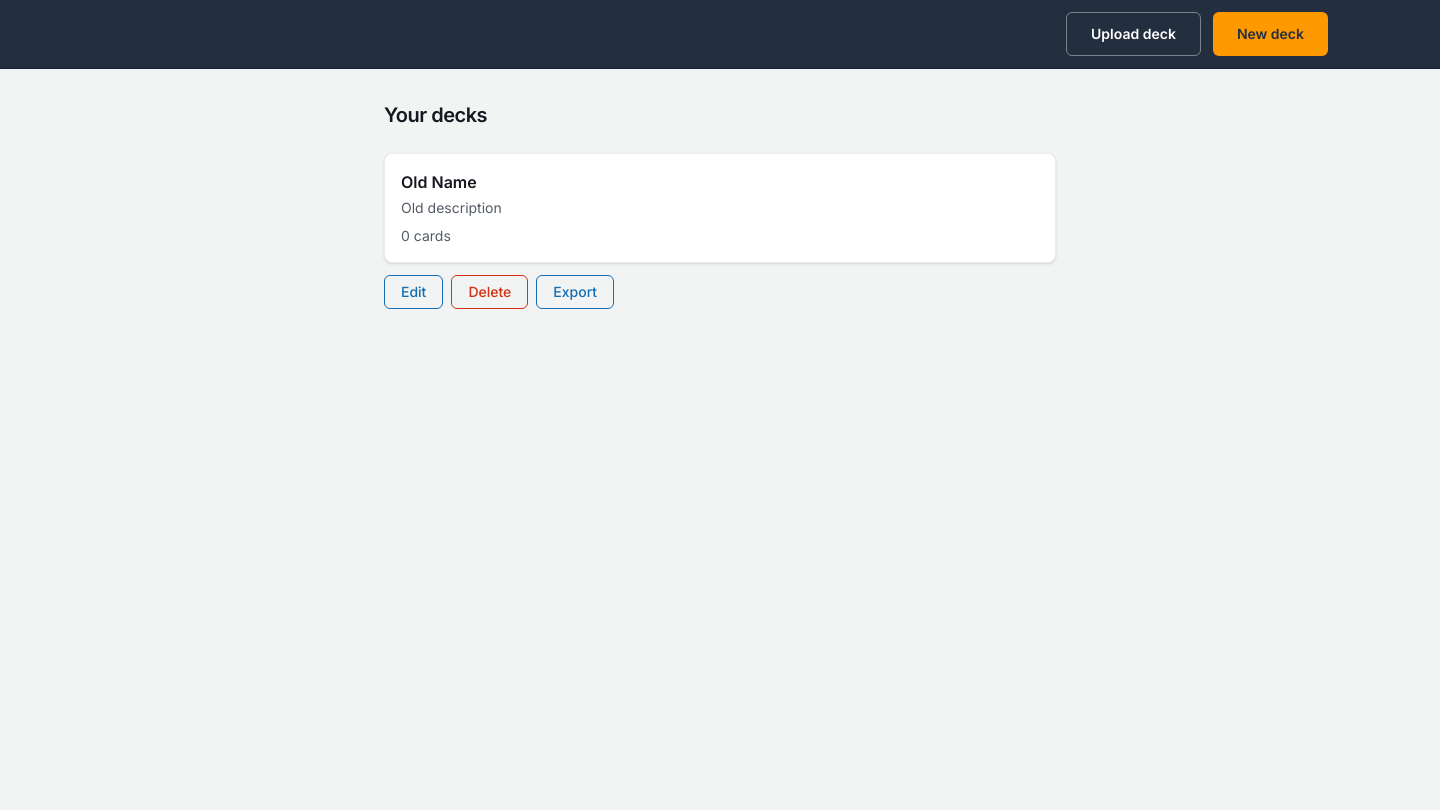
Test: Dashboard wiring — edited deck shows updated name/description (2.6) › shows the updated name and description after editing a deck
This screenshot has width=1440, height=810.
Click the button with aria-label "edit old name" at x=414, y=292, box [384,275,443,309]
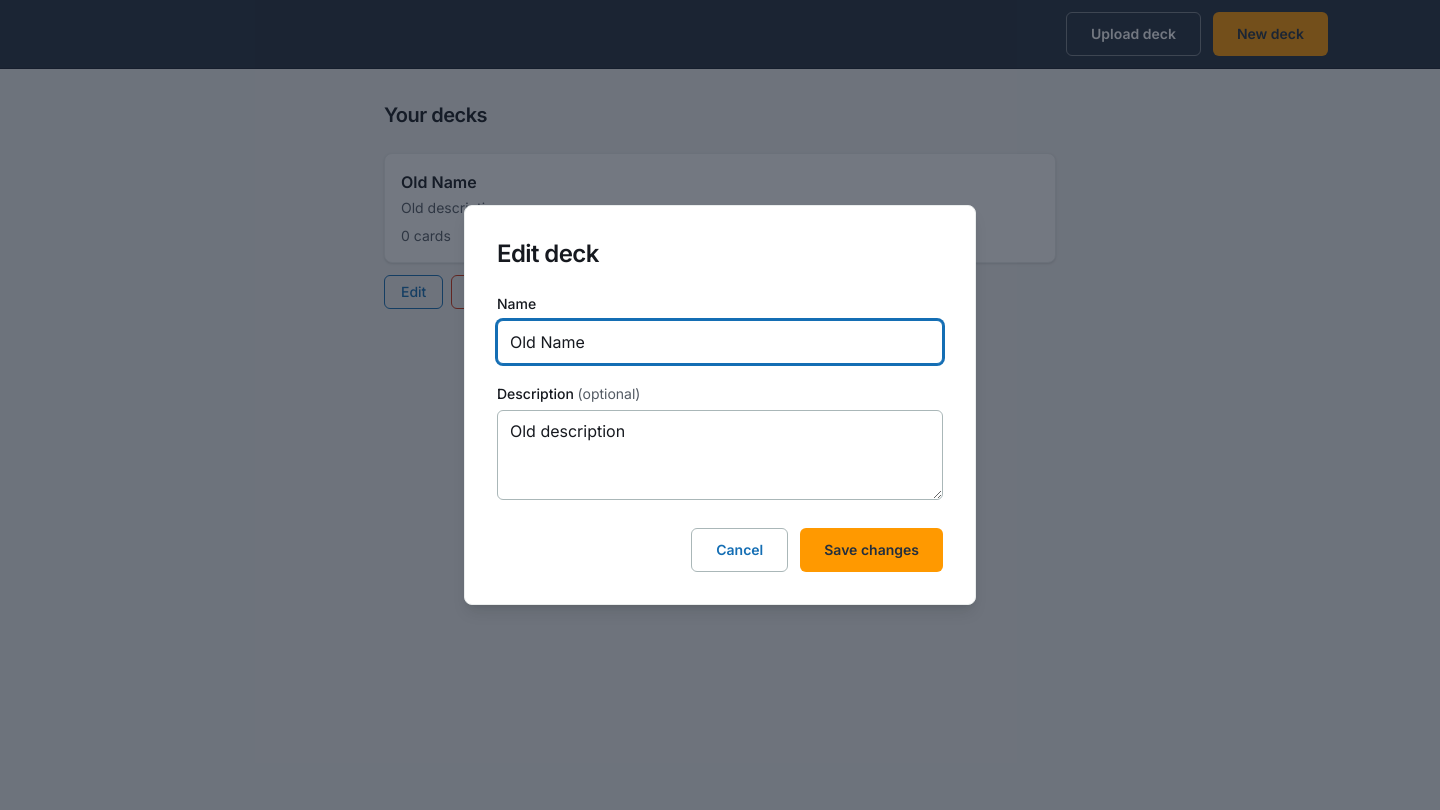
Now the heading "Edit deck" is shown, box [497,239,599,268]
Now the field labelled "Name" holds "Old Name"
Replace the text in the field labelled "Name" with "New Name" at x=720, y=342, box [497,320,943,364]
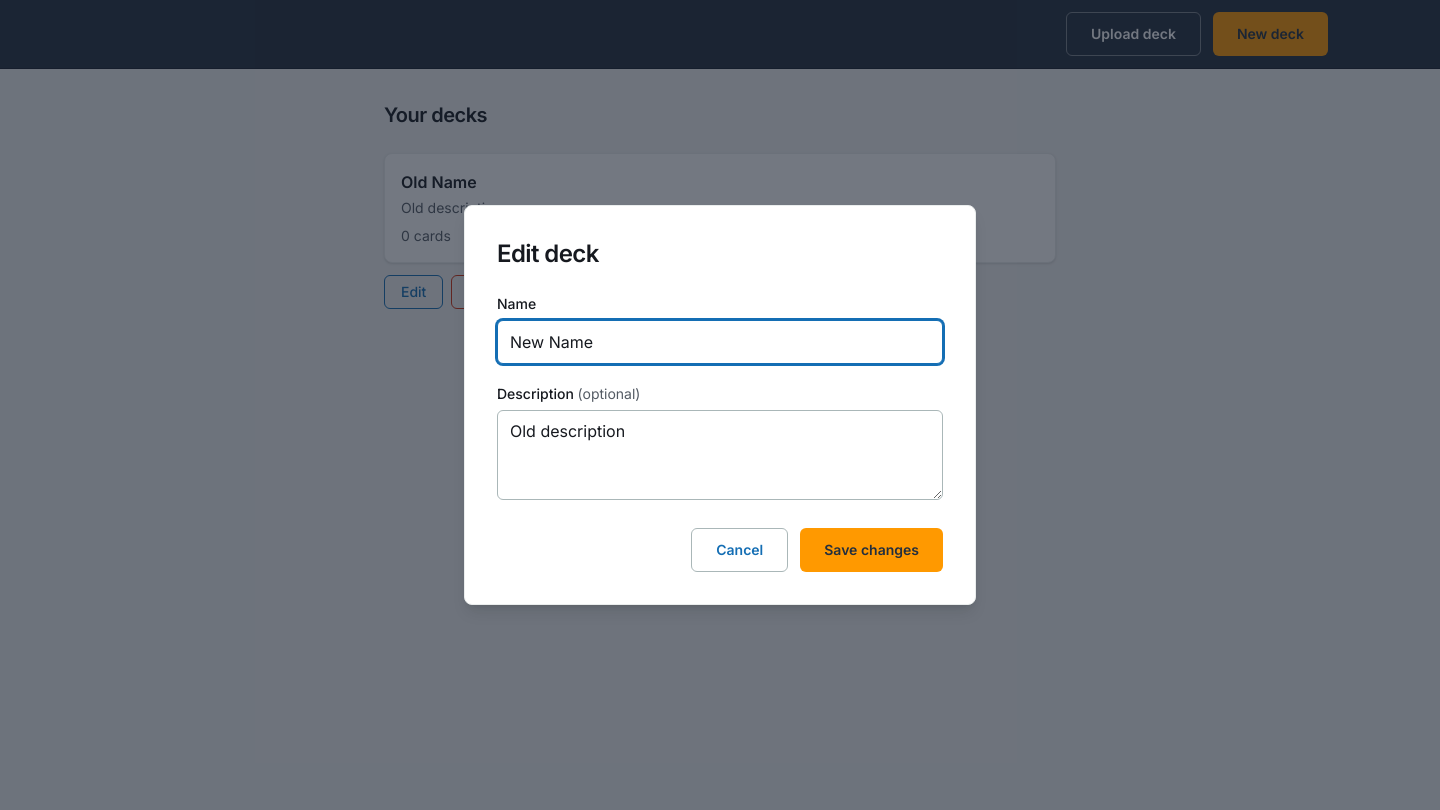
Replace the text in the text box labelled "Description (optional)" with "New description" at x=720, y=455, box [497,410,943,500]
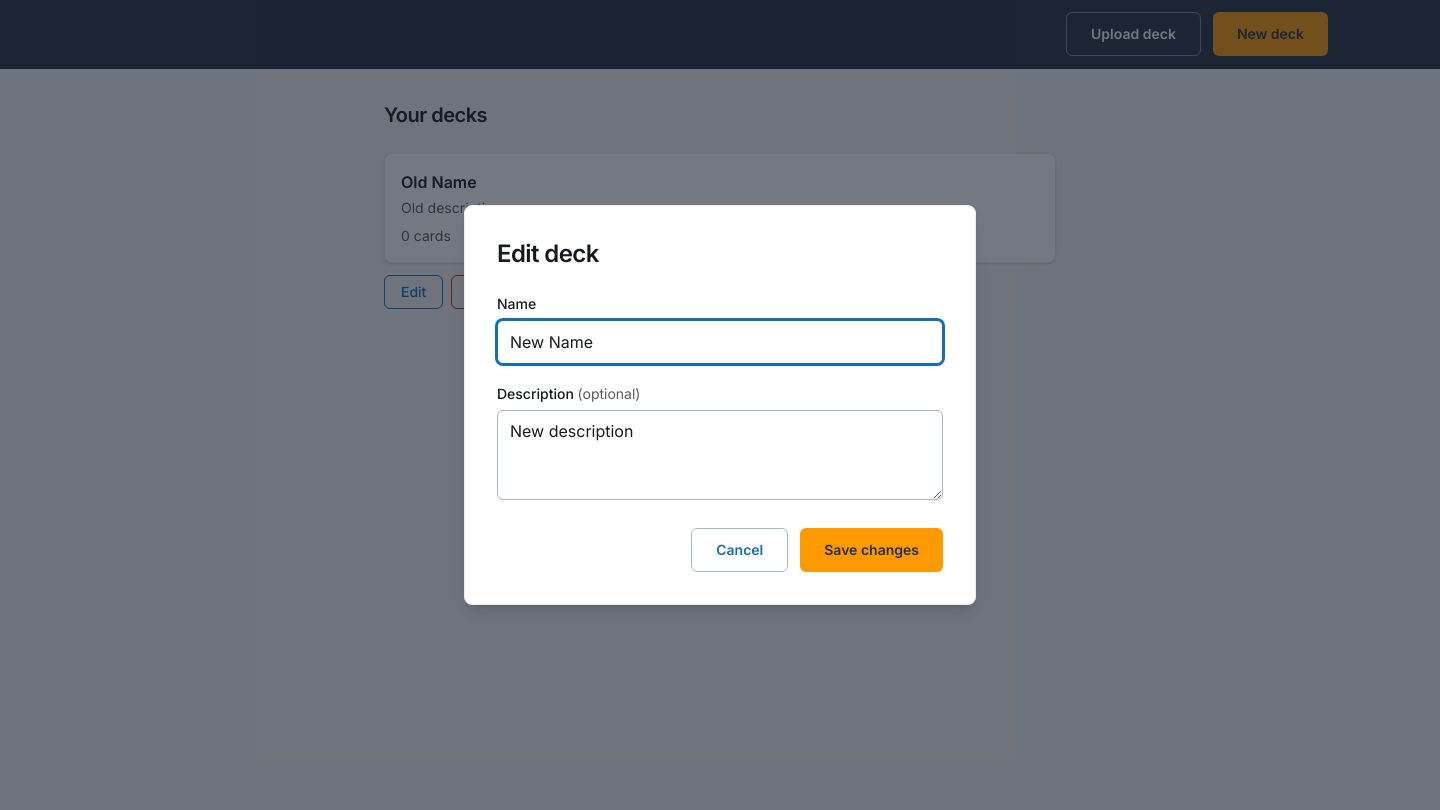
Click the button "Save changes" at x=872, y=550, box [800,528,943,572]
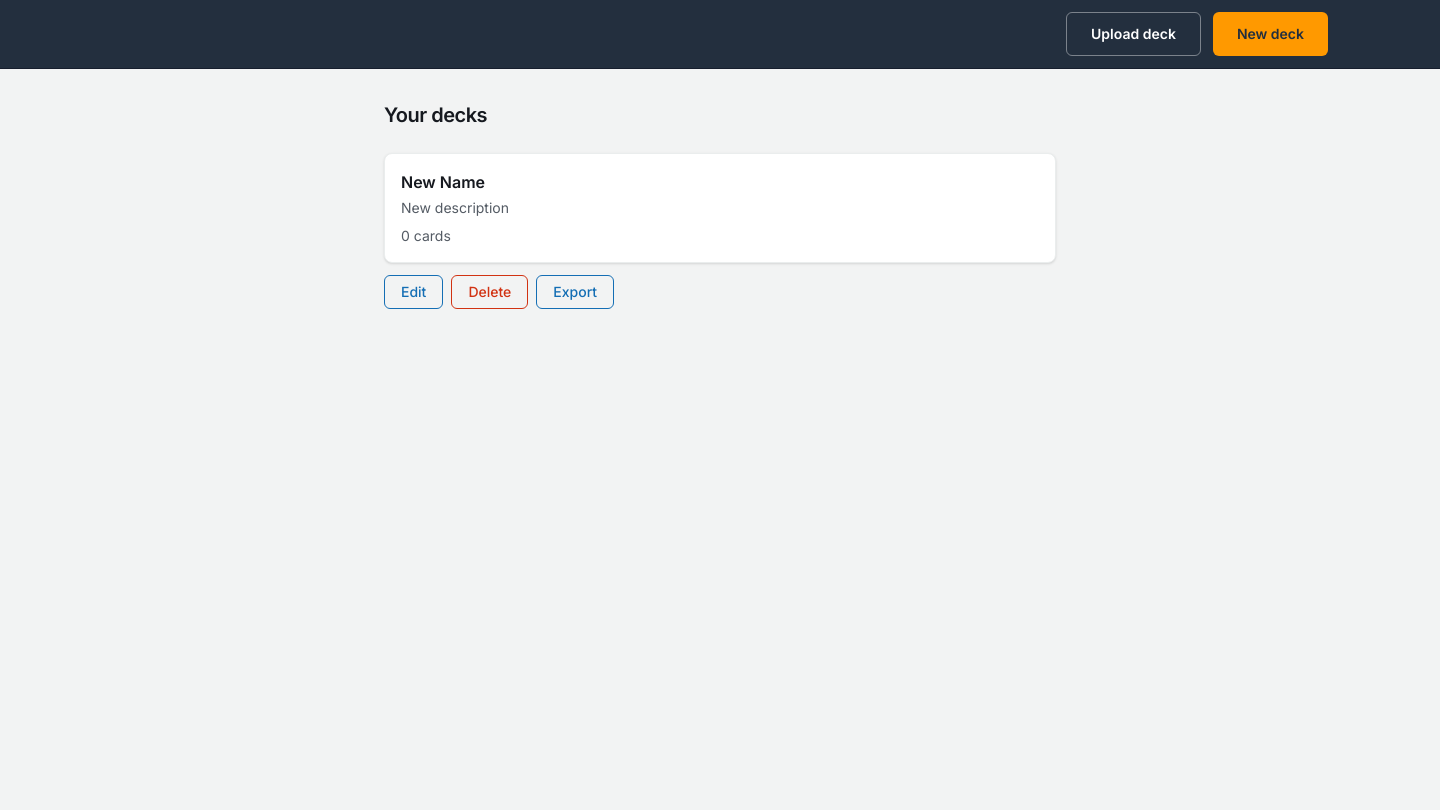
Now the dialog is gone
Now the heading "New Name" is shown, box [401,172,485,192]
Now the text "New description" is shown, box [401,199,509,216]
